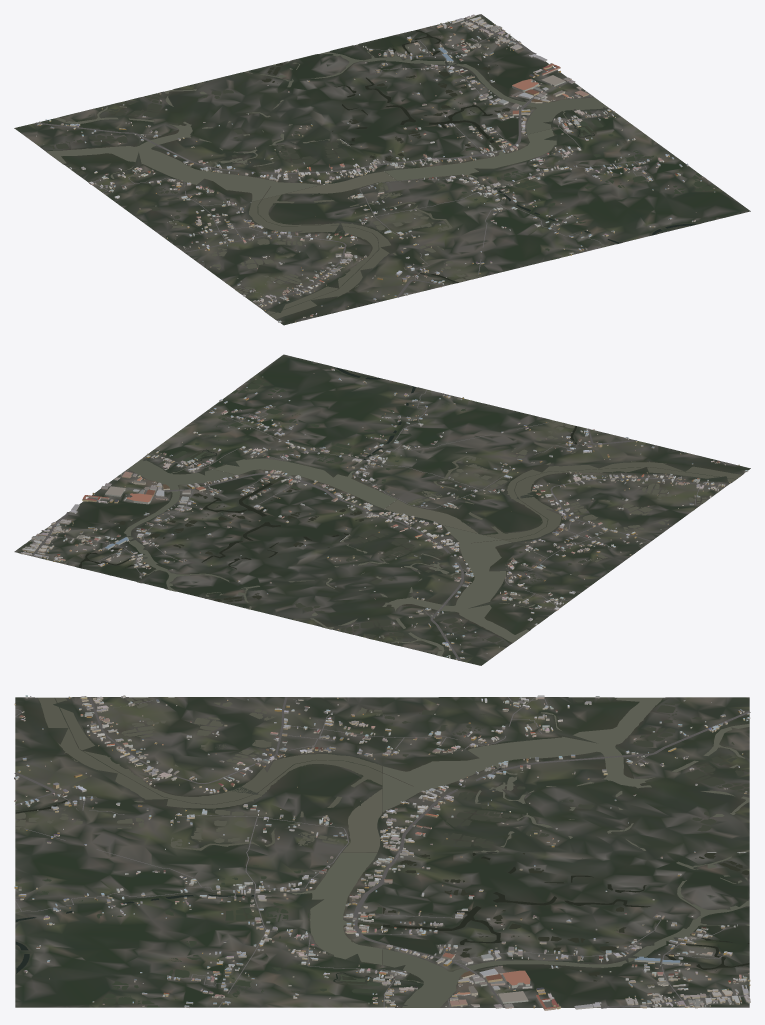
The picture shows the model from 3 angles, top to bottom: view 1: azimuth 30°, elevation 25°; view 2: azimuth 150°, elevation 25°; view 3: azimuth 270°, elevation 25°; orthographic projection. The views are drawn at different scales.
Visible parts, largest first — view 1: ground, water, buildings, roads; view 2: ground, water, buildings, roads; view 3: ground, water, buildings, roads.
Boxes of the visible parts, bbox=[...] form: ground: bbox=[14, 14, 750, 325]; water: bbox=[46, 30, 713, 319]; buildings: bbox=[36, 14, 714, 322]; roads: bbox=[35, 18, 675, 320]; ground: bbox=[14, 354, 750, 665]; water: bbox=[79, 367, 742, 656]; buildings: bbox=[20, 368, 748, 659]; roads: bbox=[31, 389, 732, 660]; ground: bbox=[15, 697, 749, 1007]; water: bbox=[15, 697, 749, 1007]; buildings: bbox=[14, 695, 750, 1010]; roads: bbox=[14, 697, 750, 1008].
Bounding box in the file's own units: 2833 × 19.88 × 2811.
